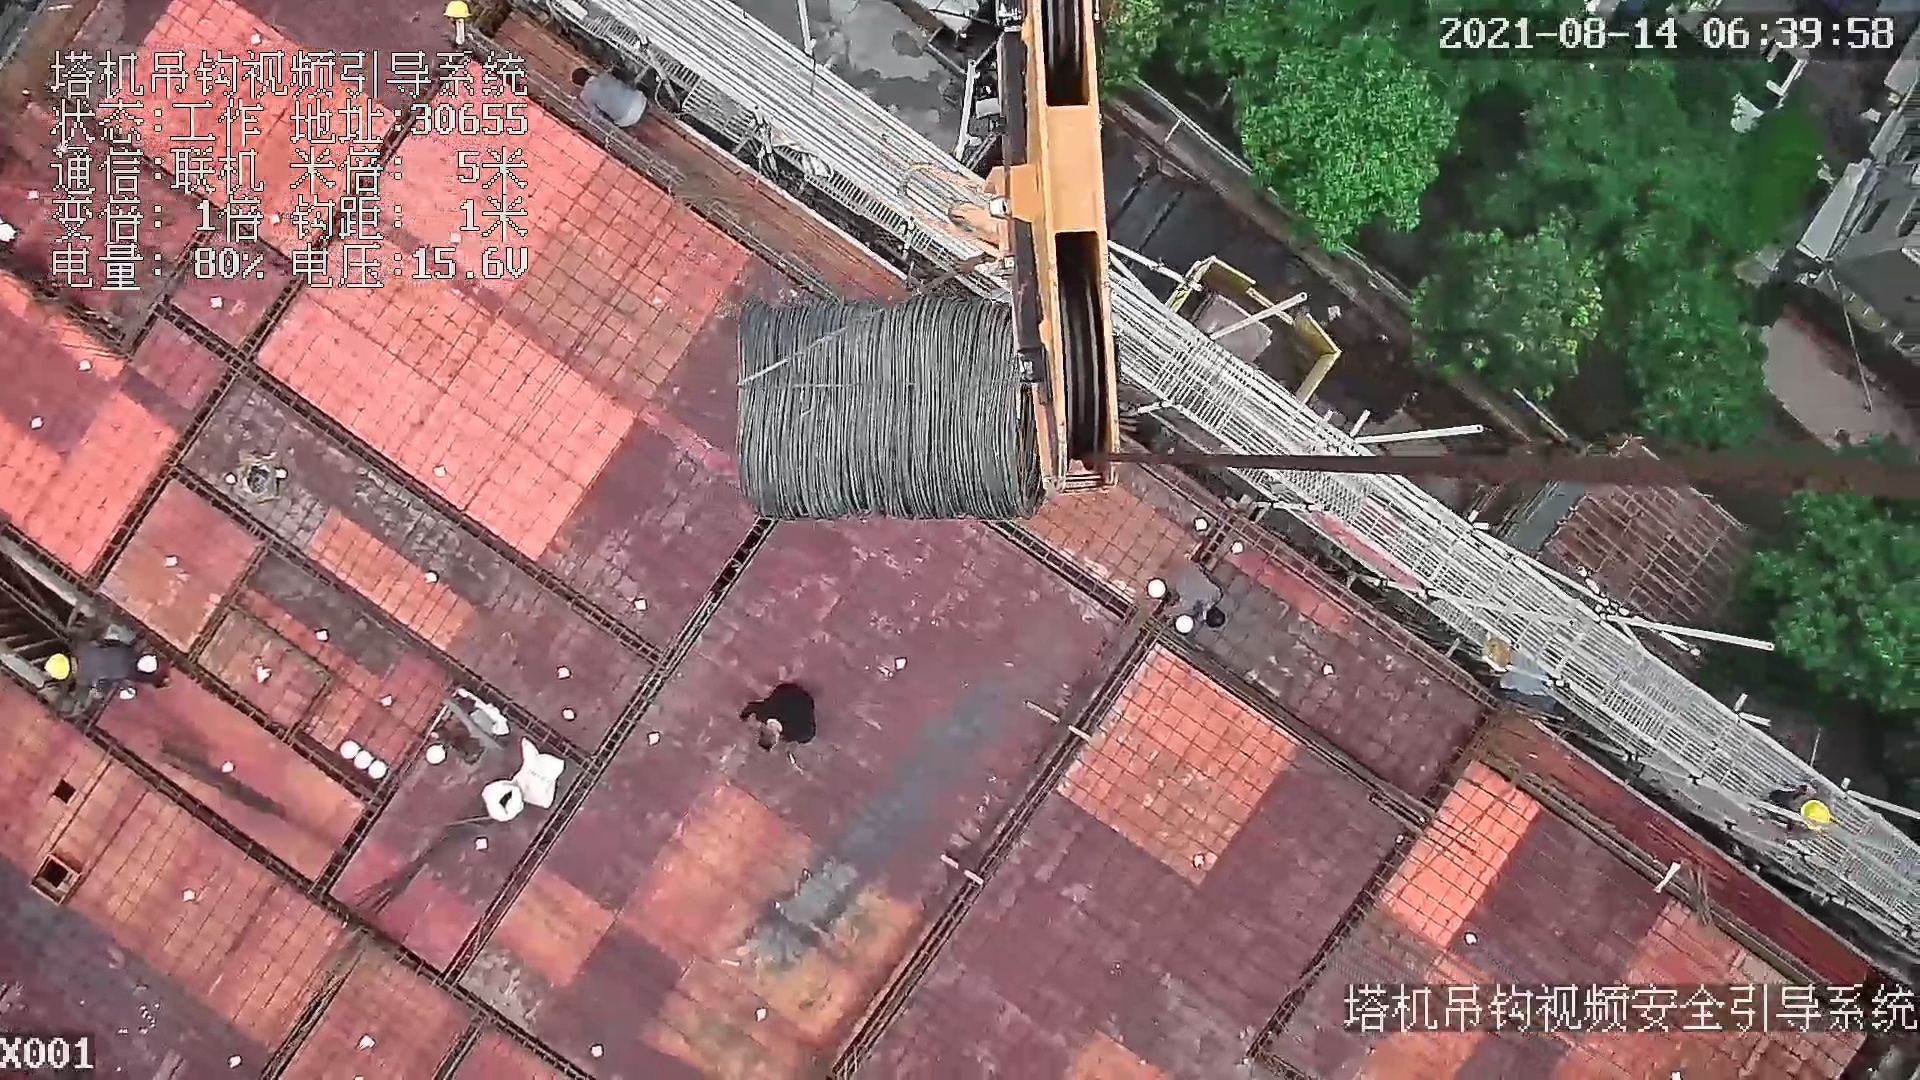helmet: (1797, 798, 1837, 840), (46, 649, 80, 684), (443, 1, 480, 27)
hook: (899, 1, 1124, 497)
person: (47, 637, 178, 699), (738, 674, 817, 749), (1162, 559, 1229, 636), (1774, 773, 1838, 850)
